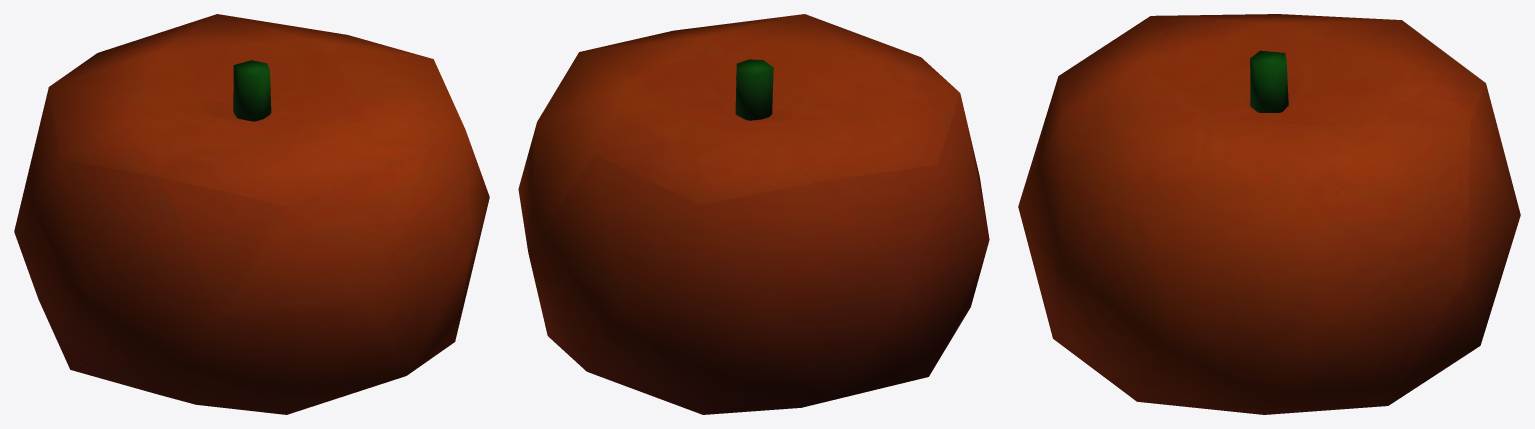
The model's file is pumkin-mask.dae.
3 renders of one model, left to right at view 1: azimuth 30°, elevation 25°; view 2: azimuth 150°, elevation 25°; view 3: azimuth 270°, elevation 25°, orthographic. The views are drawn at different scales.
Parts seen in each view (by area): view 1: Icosphere; view 2: Icosphere; view 3: Icosphere.
Part boxes in pixels (x1,y1,x2,y2): Icosphere: [14, 14, 489, 414]; Icosphere: [518, 14, 989, 414]; Icosphere: [1018, 14, 1520, 414].
Bounding box in the file's own units: 0.2796 × 0.2903 × 0.1963.
1 material, 1 textured.
